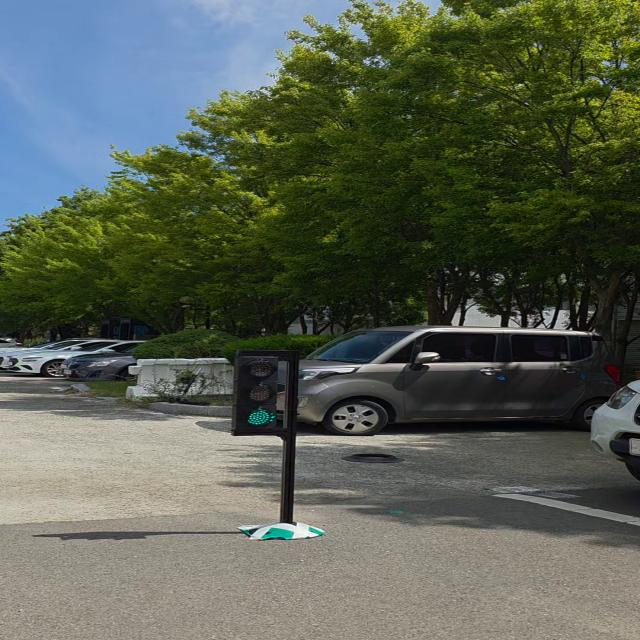green: (236, 354, 280, 435)
